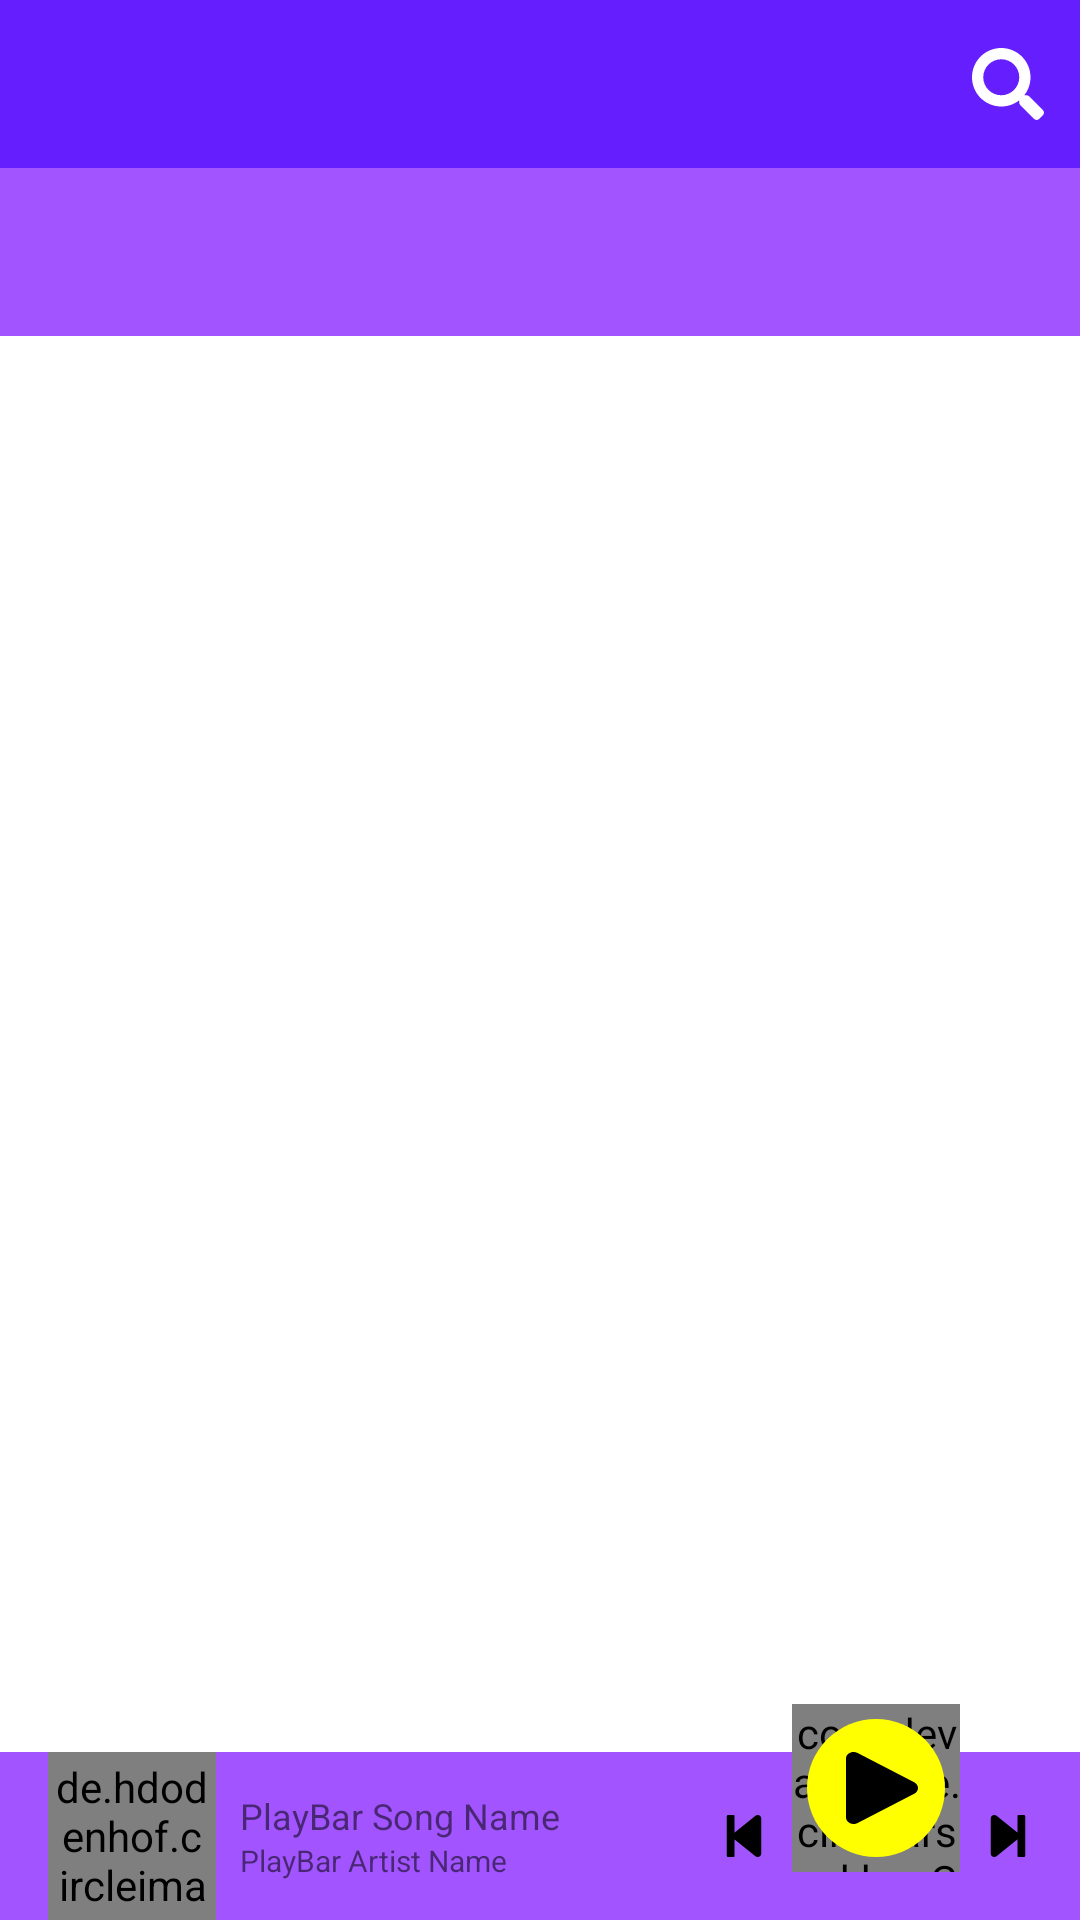

Named icons in this screenshot (1080 x 1920) and their bounding boxes, (x1, y1, x2, y2):
next: (990, 1815, 1026, 1857)
PlayBar Button Play: (807, 1719, 945, 1857)
prev: (726, 1815, 762, 1857)
